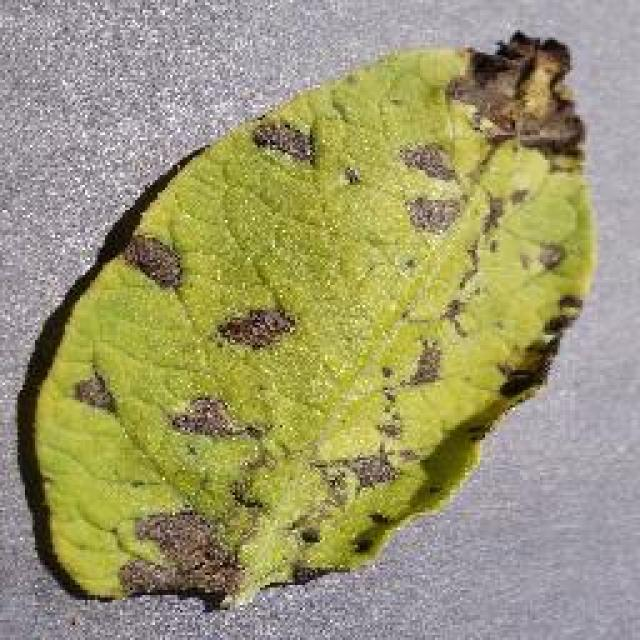early_blight: (12, 28, 602, 612)
